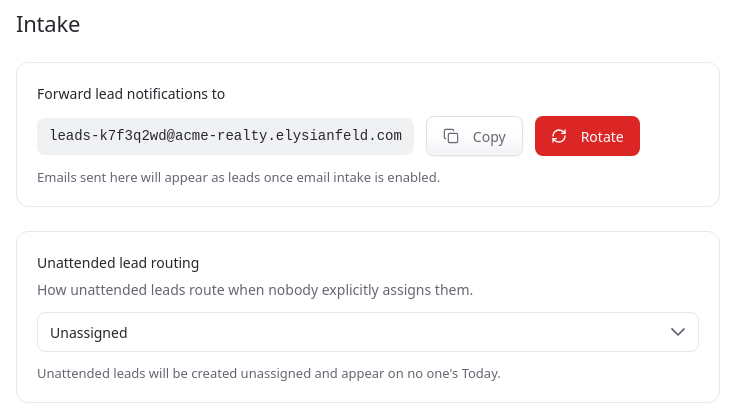
it: IntakeSettingsView › renders the server-rendered address verbatim and copies it
Expected: the text with test id "intake-address" reads "leads-k7f3q2wd@acme-realty.elysianfeld.com", x1=49 y1=128 x2=402 y2=144
What coordinates should you click on to do the following:
click the button with test id "intake-copy"
I would click on:
 (474, 136)
Its box is x1=426 y1=116 x2=523 y2=156.
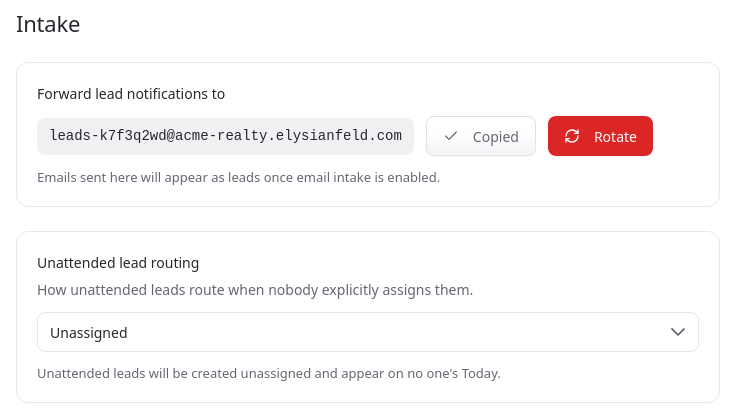
Expected: the button with test id "intake-copy" reads "Copied", x1=426 y1=116 x2=536 y2=156
